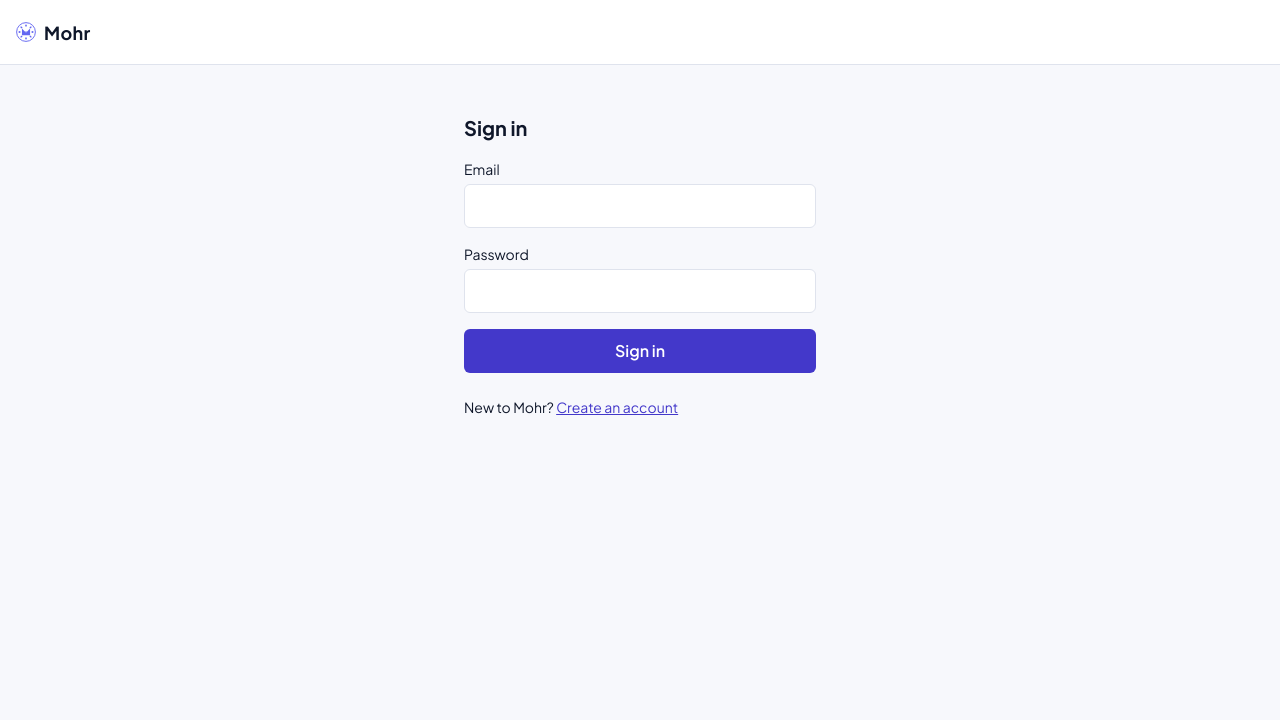
Test: password login destination › returns a password login to the protected from destination
Type "back@example.com" into the field labelled "Email". click: (640, 206)
box: [464,184,816,228]
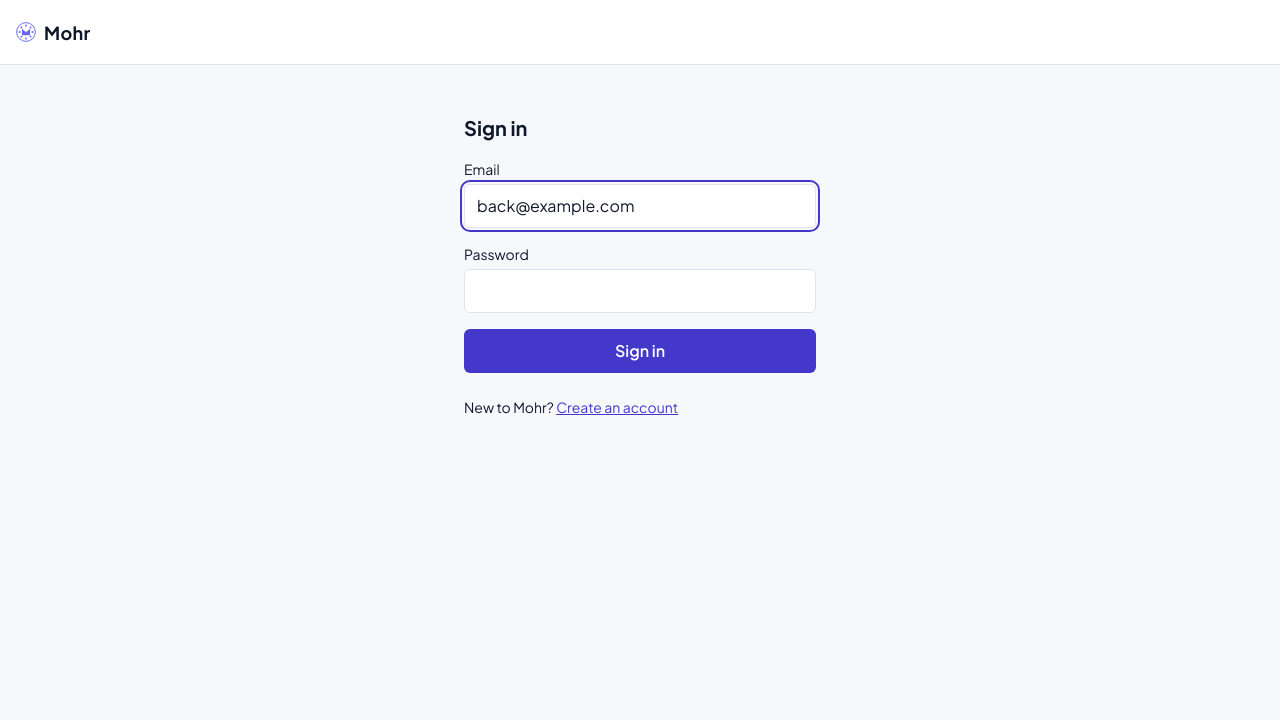
Type "correct-horse" into the password field labelled "Password". click: (640, 291)
box: [464,269,816,313]
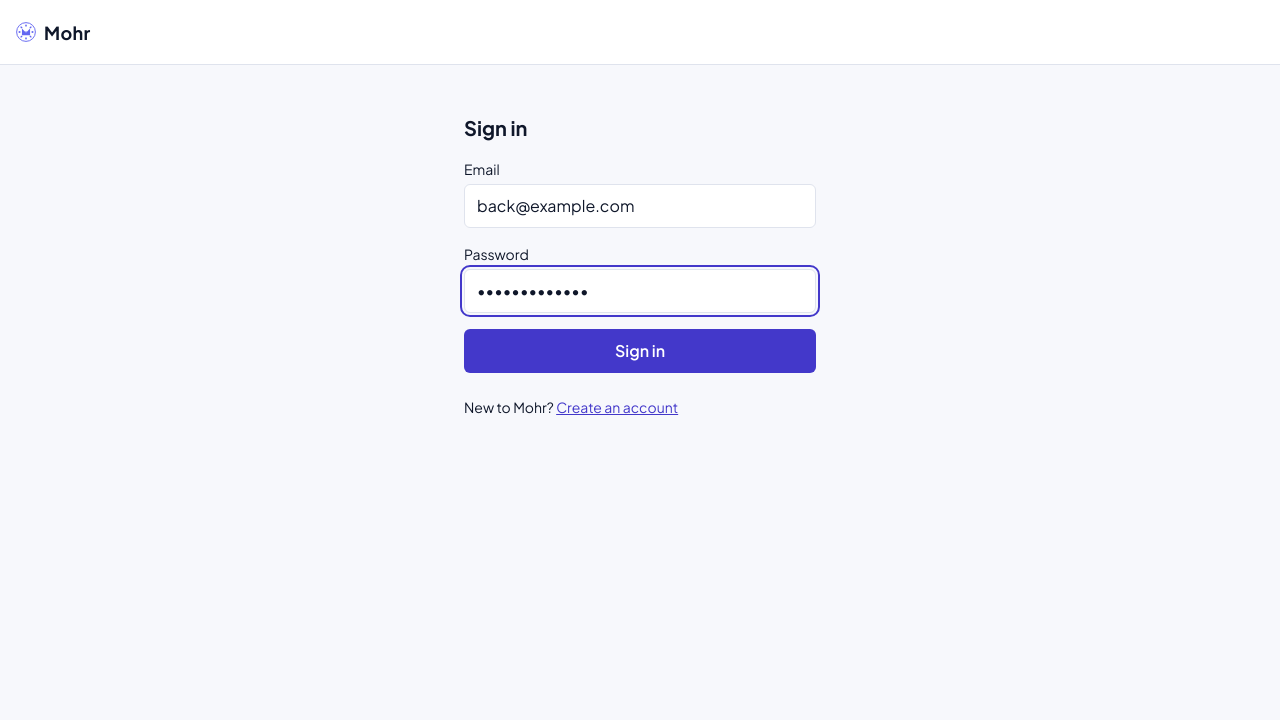
Click the button "Sign in". click: (640, 351)
box: [464,329,816,373]
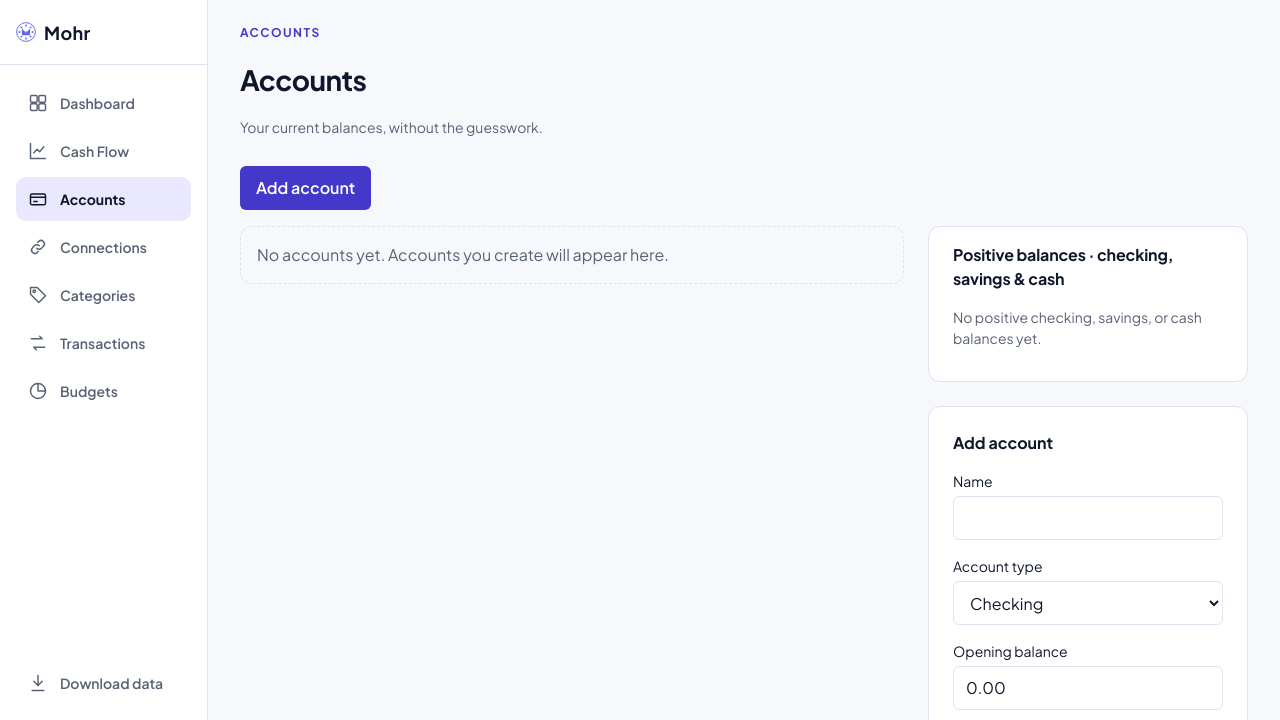
Check: the heading "Accounts" is shown, box [240,62,366,97]
